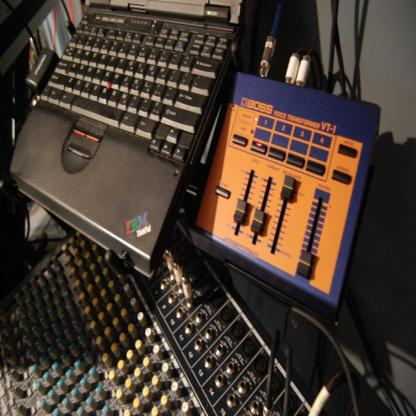board: (8, 0, 245, 278)
